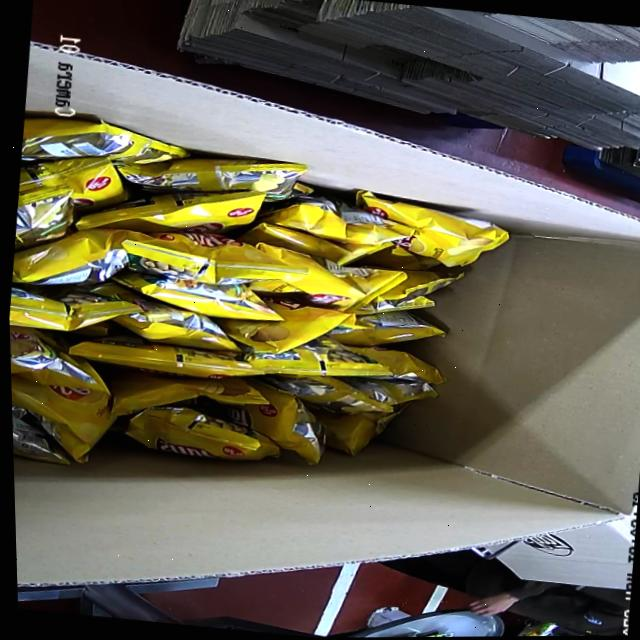SALTED: (3, 88, 520, 501)
